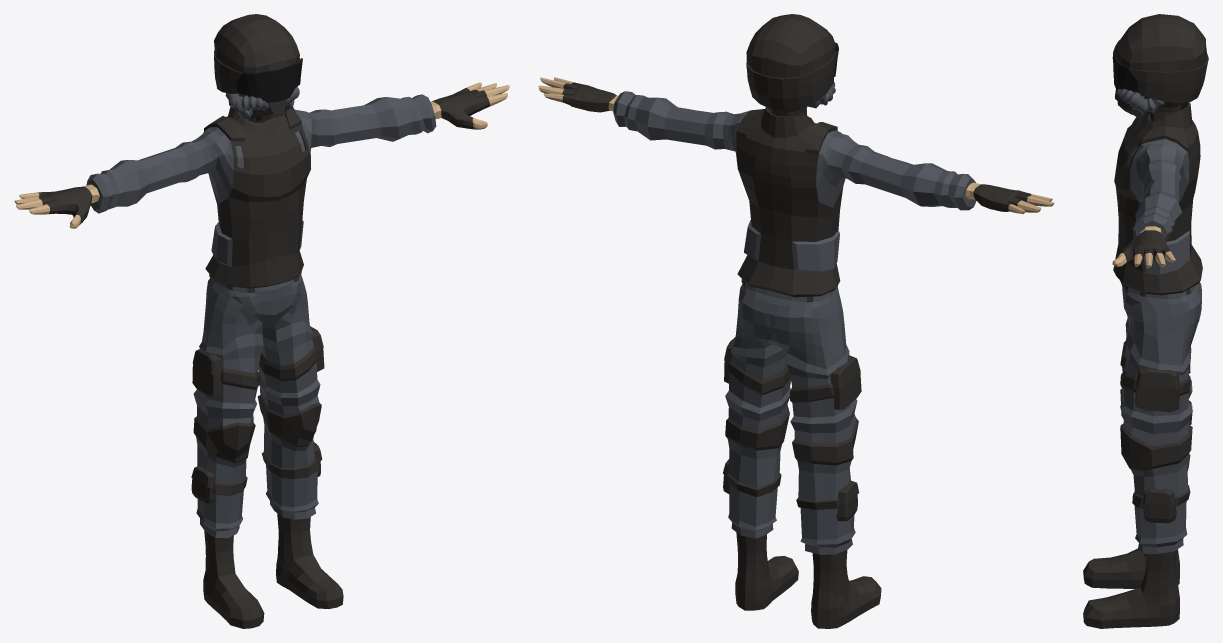
3 views of the same model, side by side, from view 1: azimuth 30°, elevation 25°; view 2: azimuth 150°, elevation 25°; view 3: azimuth 270°, elevation 25° (orthographic). The views are drawn at different scales.
Parts seen in each view (by area): view 1: Swat_Body, Swat_Legs, Swat_Head, Swat_Feet; view 2: Swat_Body, Swat_Legs, Swat_Head, Swat_Feet; view 3: Swat_Legs, Swat_Body, Swat_Head, Swat_Feet.
Part boxes in pixels (x1,y1,x2,y2): Swat_Body: (14, 82, 509, 288); Swat_Legs: (191, 272, 324, 538); Swat_Head: (214, 14, 302, 122); Swat_Feet: (203, 513, 343, 628); Swat_Body: (538, 77, 1054, 297); Swat_Legs: (723, 279, 861, 554); Swat_Head: (746, 14, 838, 116); Swat_Feet: (735, 532, 881, 628); Swat_Legs: (1120, 281, 1201, 554); Swat_Body: (1112, 57, 1202, 295); Swat_Head: (1113, 14, 1208, 121); Swat_Feet: (1083, 548, 1179, 628).
Bounding box in the file's own units: 168 × 185 × 36.17.
